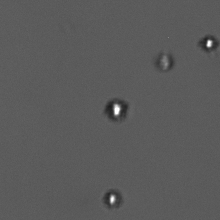Dead Cell: (153, 50, 177, 71)
Living Cell: (101, 95, 132, 124), (98, 186, 124, 210), (197, 31, 220, 55)
